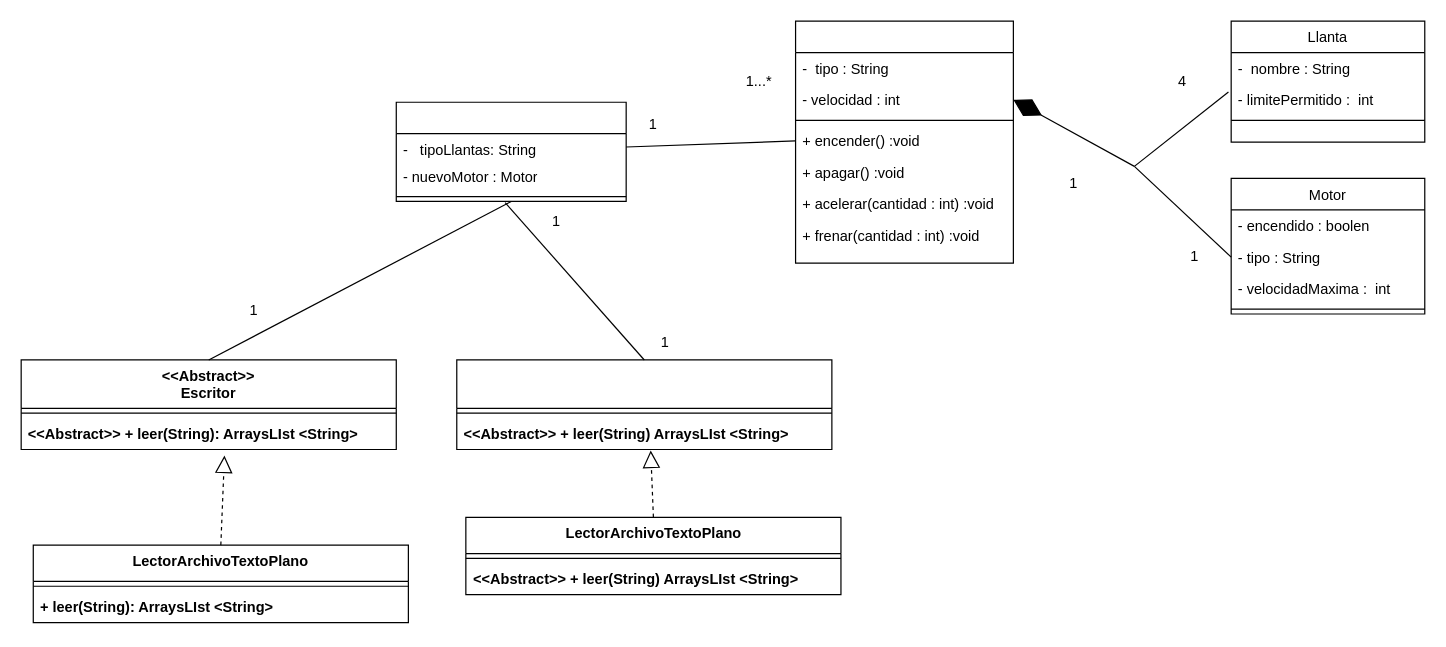
Image size: 1446x647. Some labels were removed from this diagram. Here are the shapes that lost their labels. From the top down, the box of each, then its label:
(395, 101, 626, 201): ProyectoSimulador
(794, 20, 1013, 263): Carrro
(456, 359, 832, 450): <<Abstract>> Lector
